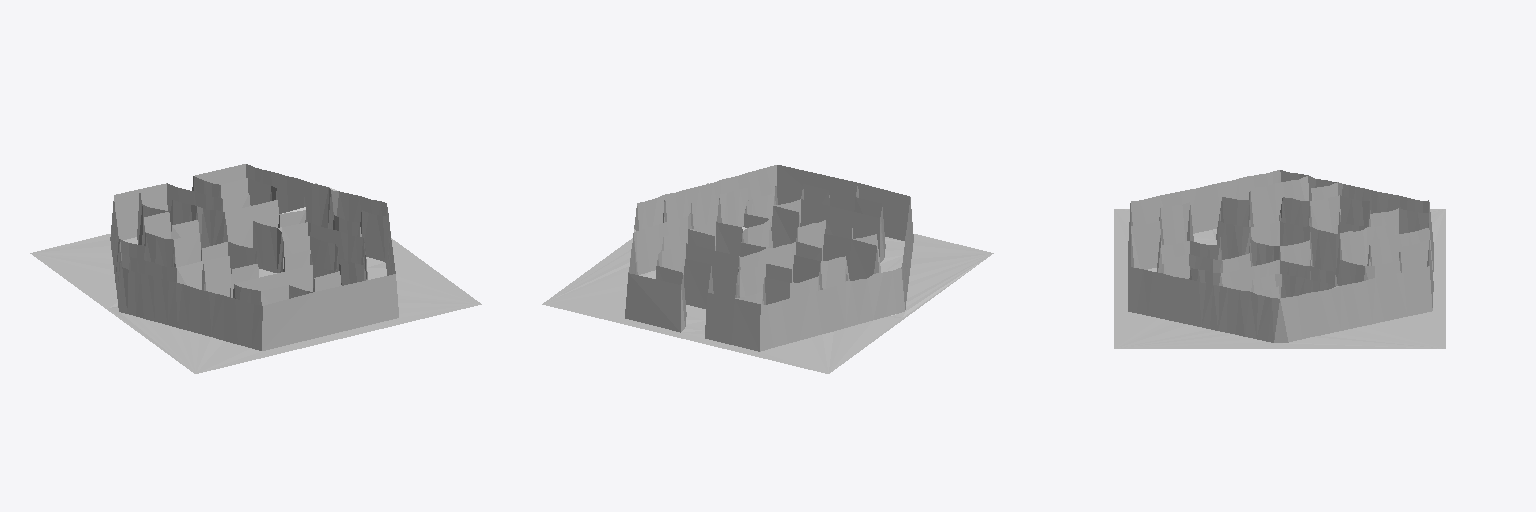
Rendered from big_maze.obj.
The picture shows the model from 3 angles: view 1: azimuth 30°, elevation 25°; view 2: azimuth 150°, elevation 25°; view 3: azimuth 270°, elevation 25°; orthographic projection.
Visible parts, largest first — view 1: Plane_Plane.003; view 2: Plane_Plane.003; view 3: Plane_Plane.003.
Part boxes in pixels (x1,y1,x2,y2): Plane_Plane.003: (30, 164, 481, 373); Plane_Plane.003: (542, 165, 993, 373); Plane_Plane.003: (1114, 170, 1445, 348).
Size of the model in its own units: 16 by 2.45 by 16.